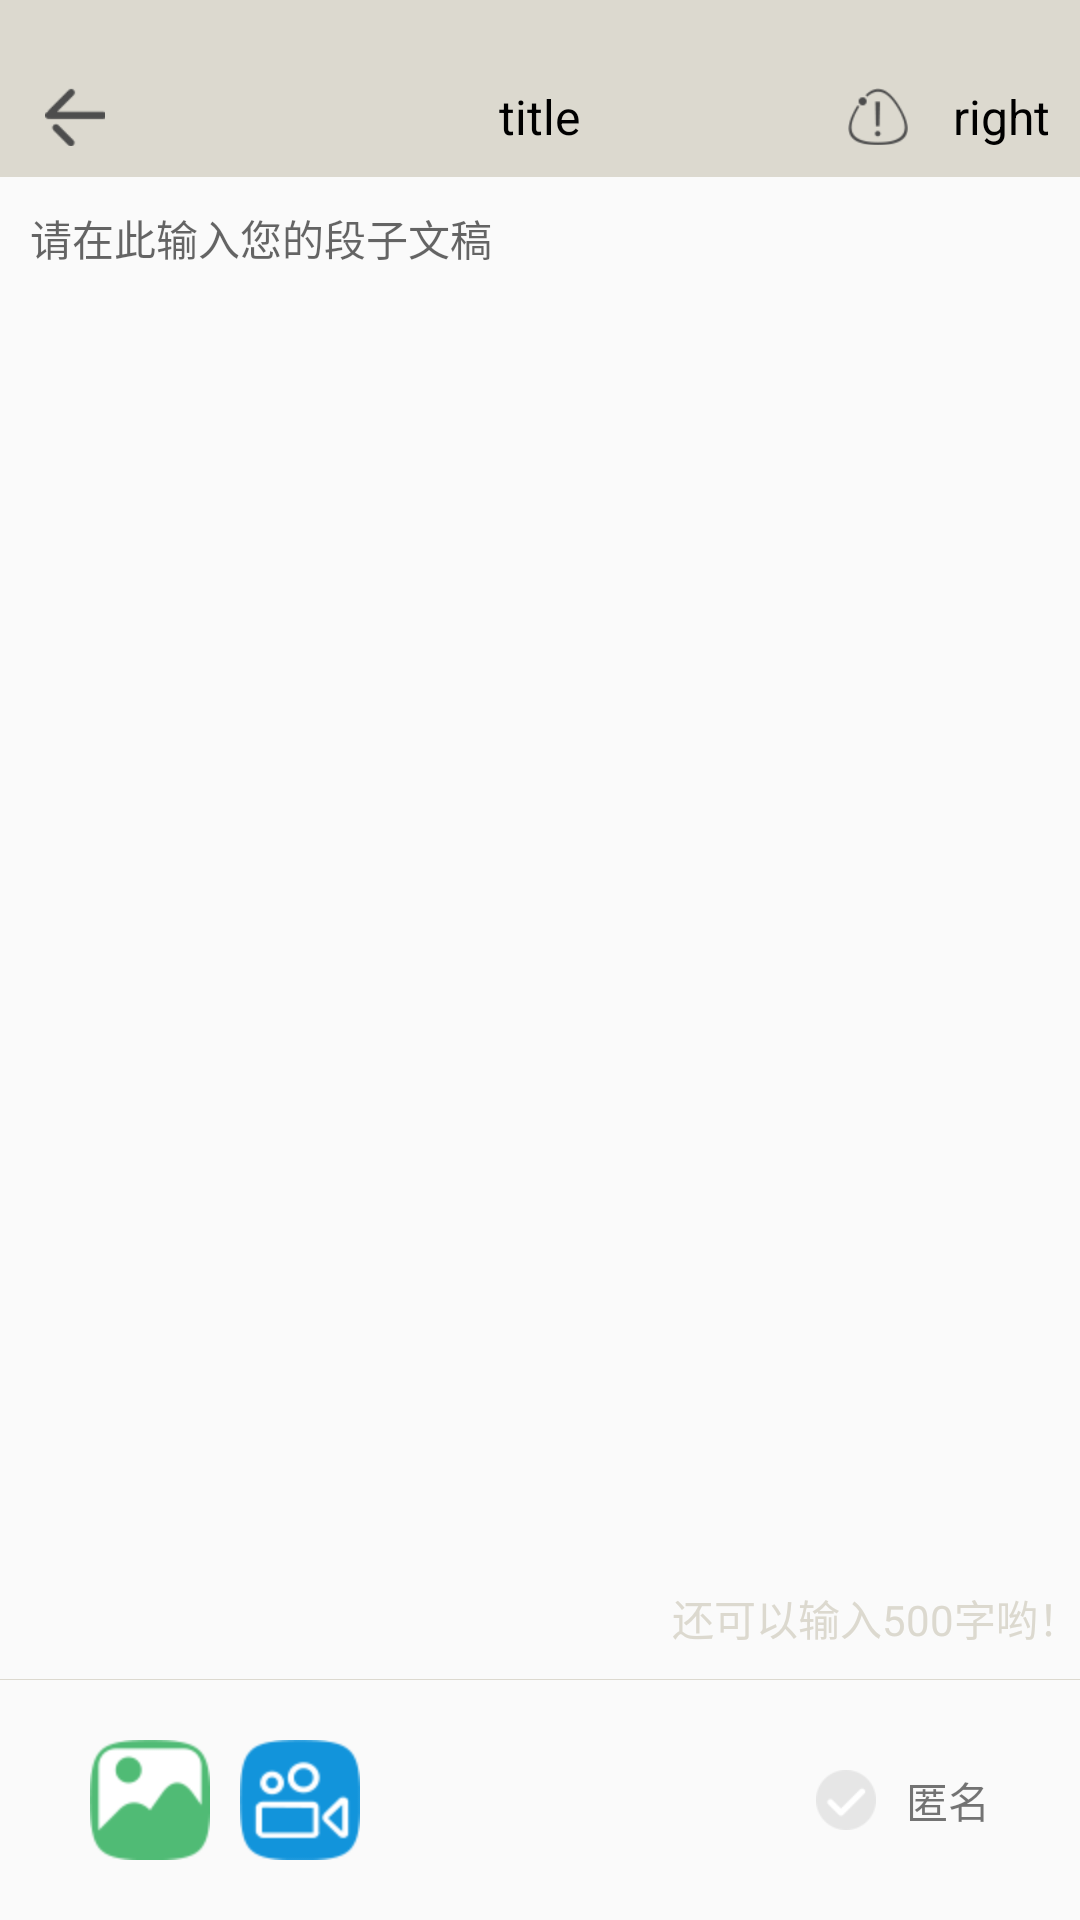

Icons on this 1080 x 1920 Android screen, each with its box as (x1, y1, x2, y2):
back: (45, 89, 105, 146)
duanzi photo: (90, 1740, 210, 1860)
duanzi video: (240, 1740, 360, 1860)
